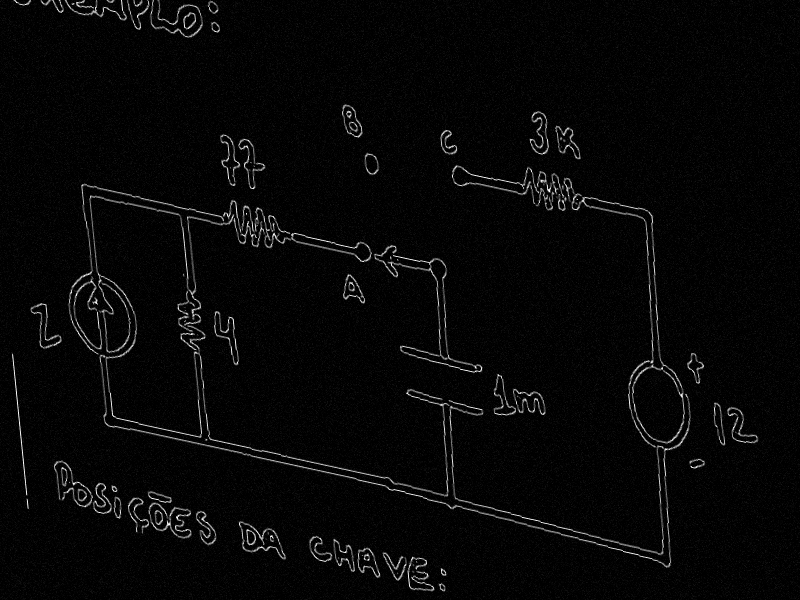-: (144, 487, 176, 506), (686, 453, 708, 474)
0: (172, 0, 206, 42), (146, 499, 172, 535), (71, 478, 97, 513)
1: (488, 370, 519, 424), (709, 398, 728, 450)
2: (721, 400, 760, 448)
3: (524, 106, 553, 160)
4: (210, 308, 243, 367)
7: (236, 133, 269, 194), (216, 130, 243, 190)
A: (338, 268, 369, 308), (354, 541, 383, 580), (259, 525, 288, 563)
H: (331, 537, 356, 574)
V: (380, 548, 412, 587)
k: (553, 121, 584, 164)
m: (511, 381, 548, 418), (90, 0, 130, 25)
p: (52, 455, 77, 508), (124, 0, 152, 34)
